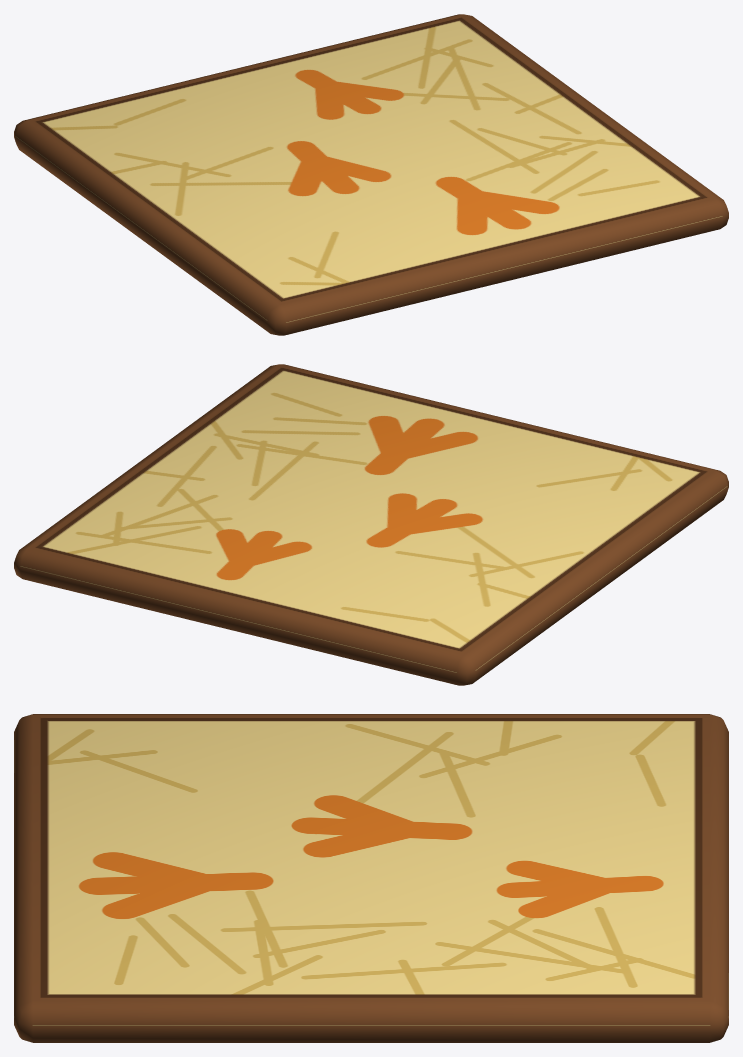
Rendered from ChickenGate_Tile.fbx.
3 views of the same model, one above another, from view 1: azimuth 30°, elevation 25°; view 2: azimuth 150°, elevation 25°; view 3: azimuth 270°, elevation 25° (orthographic). The views are drawn at different scales.
Parts seen in each view (by area): view 1: ChickenGate_Tile; view 2: ChickenGate_Tile; view 3: ChickenGate_Tile.
Boxes of the visible parts, left/top/right/bottom form: ChickenGate_Tile: left=14, top=14, right=728, bottom=335; ChickenGate_Tile: left=14, top=364, right=728, bottom=685; ChickenGate_Tile: left=14, top=714, right=728, bottom=1042.
Size of the model in its own units: 0.94 by 0.06 by 0.94.
1 material, 1 textured.
